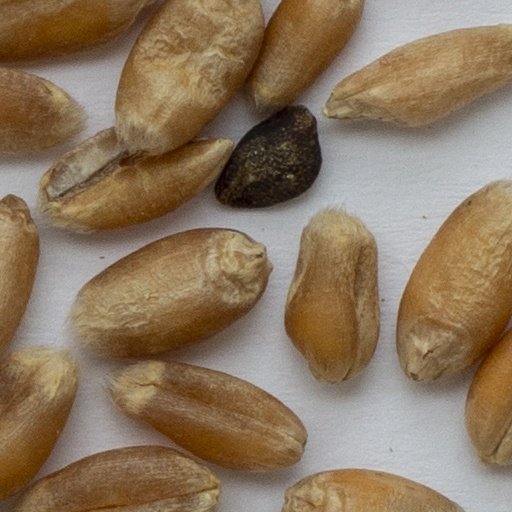Convolvulus: (209, 104, 324, 210)
Wheat-grain: (67, 229, 268, 364), (396, 181, 511, 384), (116, 0, 264, 154), (109, 364, 305, 476), (323, 25, 511, 139), (278, 200, 379, 387), (14, 448, 222, 511), (247, 0, 364, 111), (0, 345, 75, 505), (0, 0, 157, 69), (0, 69, 94, 155), (284, 470, 461, 511), (0, 190, 43, 358), (465, 331, 511, 471)
Wheat-grain-damaged: (36, 134, 223, 230)
